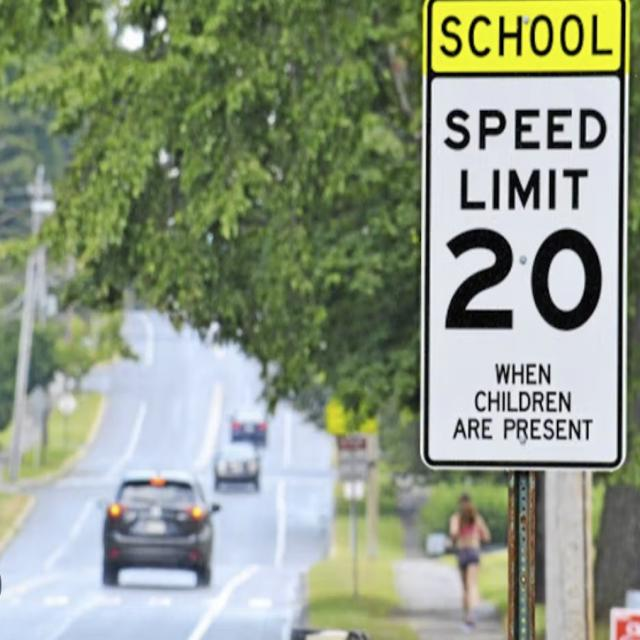speedLimit20: (431, 86, 618, 357)
